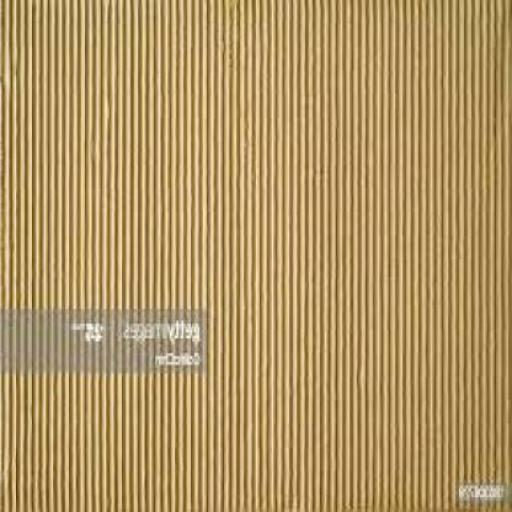cardboard: (2, 0, 511, 510)
